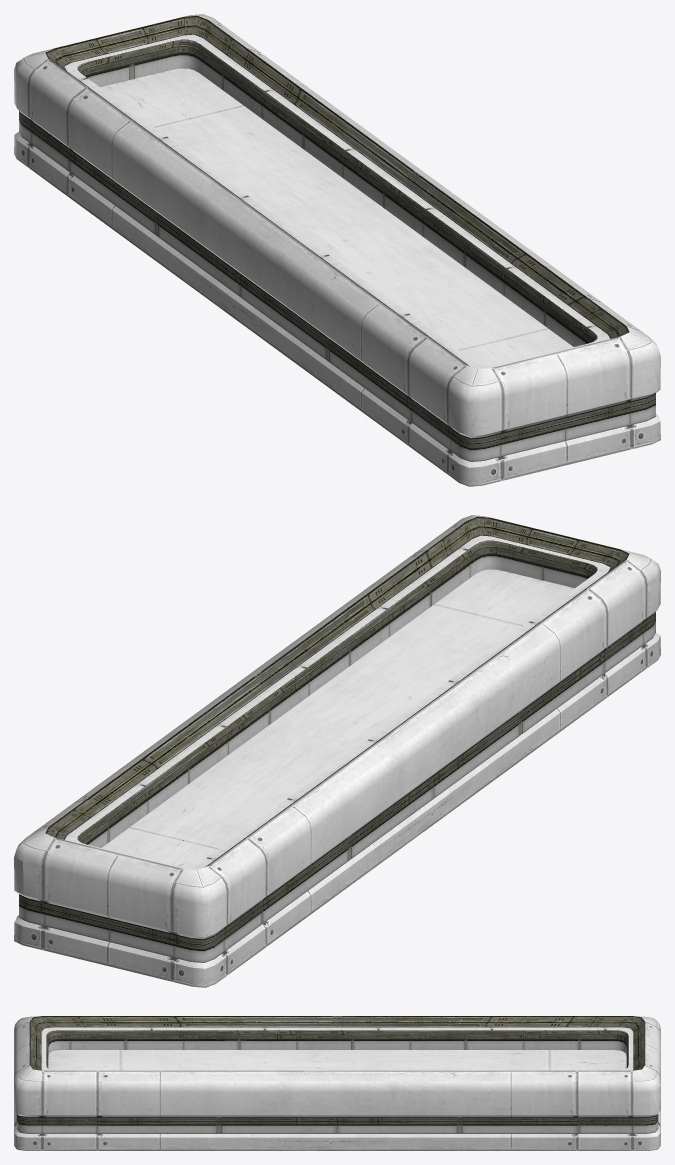
Rendered from Emb_PlanterBalc_2x8.FBX.
3 renders of one model, top to bottom at view 1: azimuth 30°, elevation 25°; view 2: azimuth 150°, elevation 25°; view 3: azimuth 270°, elevation 25°, orthographic. The views are drawn at different scales.
Parts seen in each view (by area): view 1: Emb_PlanterBalc_2x8; view 2: Emb_PlanterBalc_2x8; view 3: Emb_PlanterBalc_2x8.
Part boxes in pixels (box(x1,y1,x2,y2)): Emb_PlanterBalc_2x8: box(14, 14, 660, 486); Emb_PlanterBalc_2x8: box(14, 515, 660, 987); Emb_PlanterBalc_2x8: box(14, 1016, 660, 1150).
Size of the model in its own units: 2 by 1 by 8.
